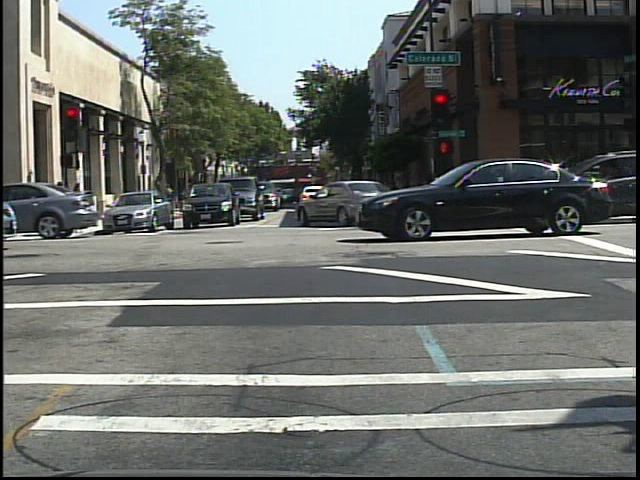person: (617, 151, 638, 221), (161, 180, 179, 219)
